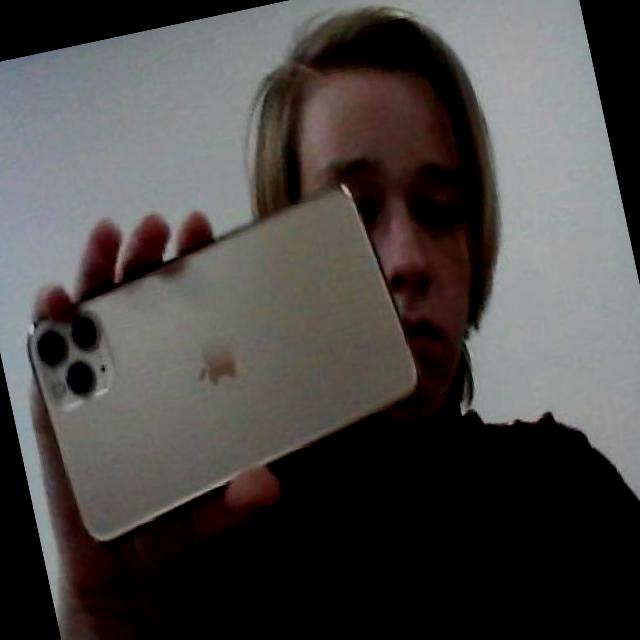lens: (34, 311, 110, 403)
phone: (32, 176, 413, 544)
